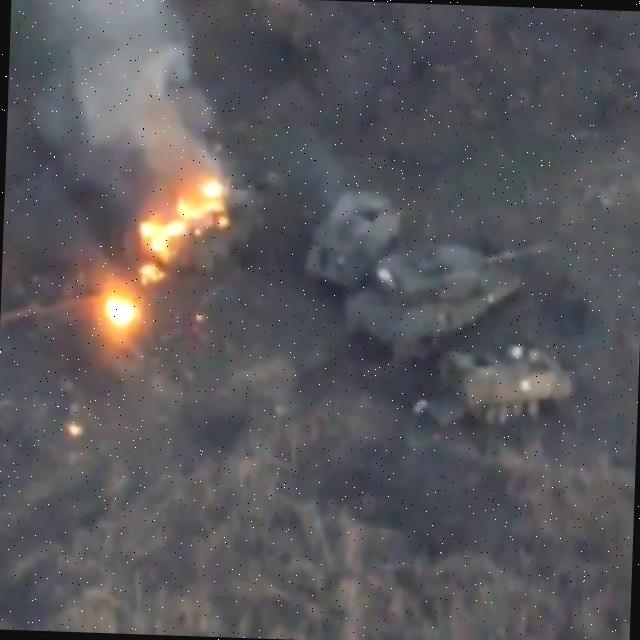APC: (437, 346, 577, 431), (309, 191, 399, 286)
Destroyed: (144, 161, 279, 281)
MBT: (355, 228, 556, 364)
